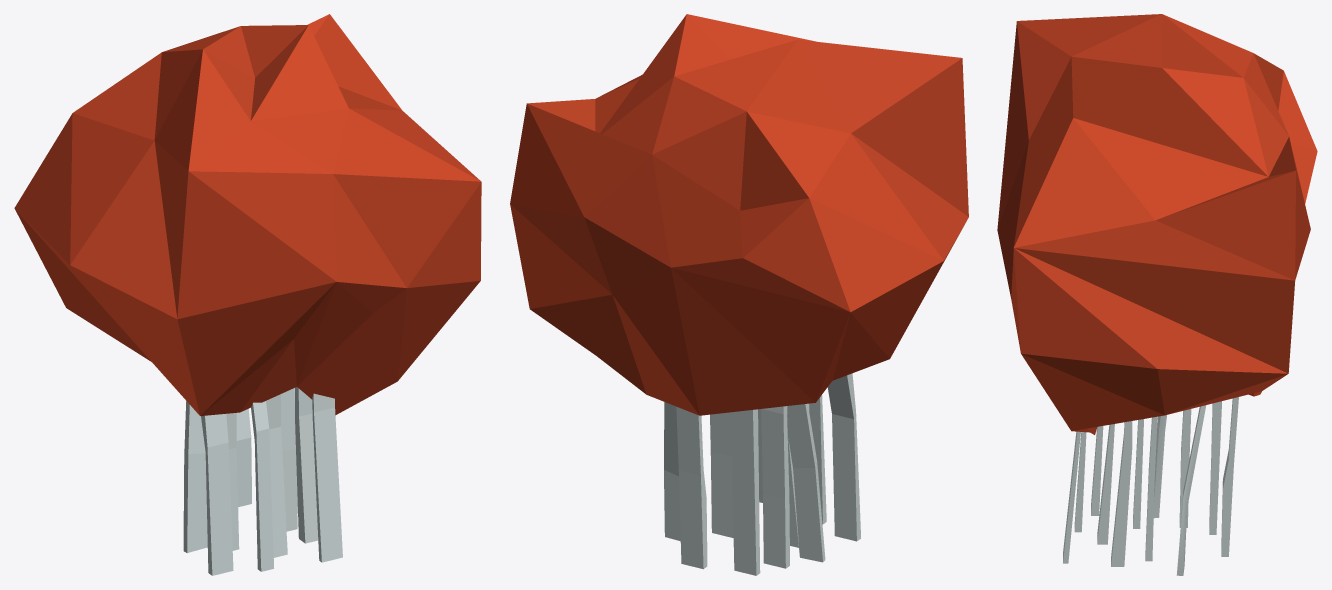
Rendered from TP_Plant02.fbx.
3 renders of one model, left to right at view 1: azimuth 30°, elevation 25°; view 2: azimuth 150°, elevation 25°; view 3: azimuth 270°, elevation 25°, orthographic. The views are drawn at different scales.
Visible parts, largest first — view 1: TP_Plant02; view 2: TP_Plant02; view 3: TP_Plant02.
Part boxes in pixels (x1,y1,x2,y2): TP_Plant02: (14, 14, 481, 575); TP_Plant02: (510, 14, 968, 575); TP_Plant02: (997, 14, 1317, 575).
Size of the model in its own units: 90.78 by 120 by 68.93.
1 material, 1 textured.
